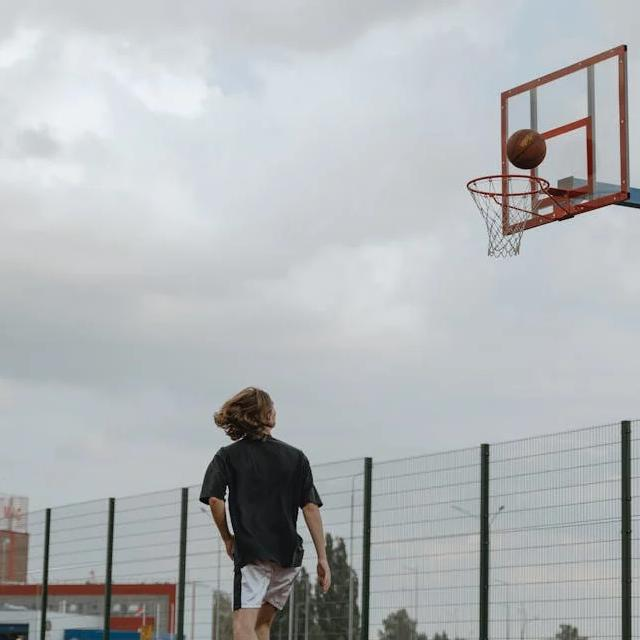basketball: (506, 127, 547, 168)
hoop: (467, 176, 546, 257)
